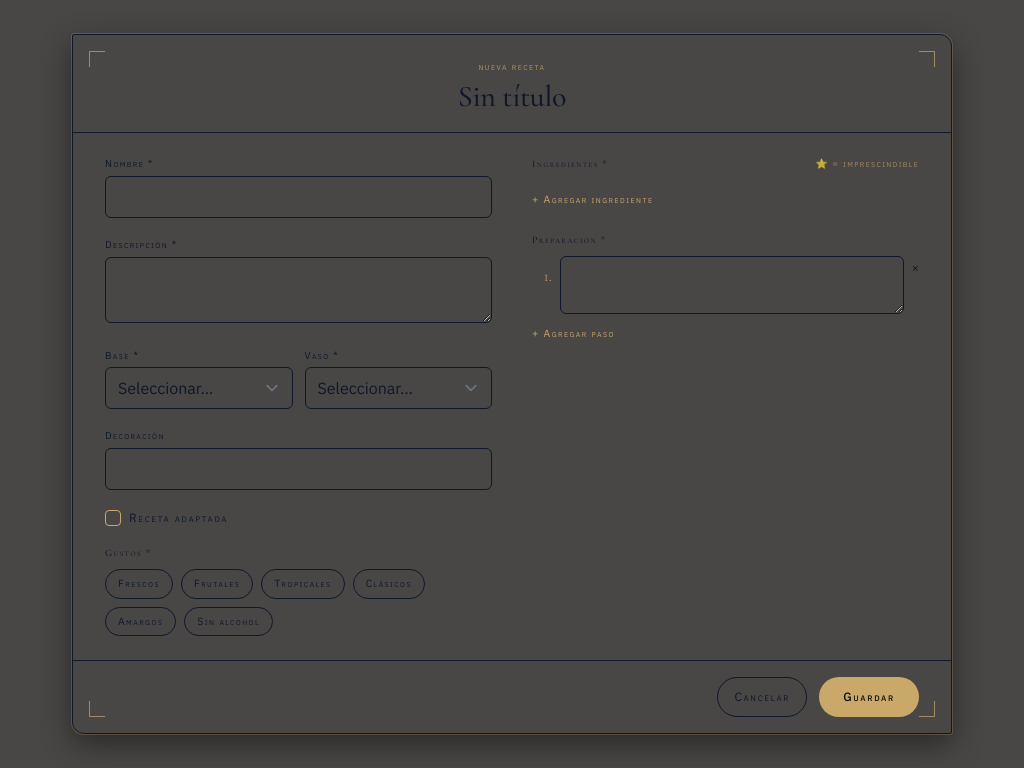
Scenario: CocktailEditor › "+ Agregar ingrediente" adds a new ingredient row
Click the button "+ Agregar ingrediente": (593,199) 532,192 -> 653,207
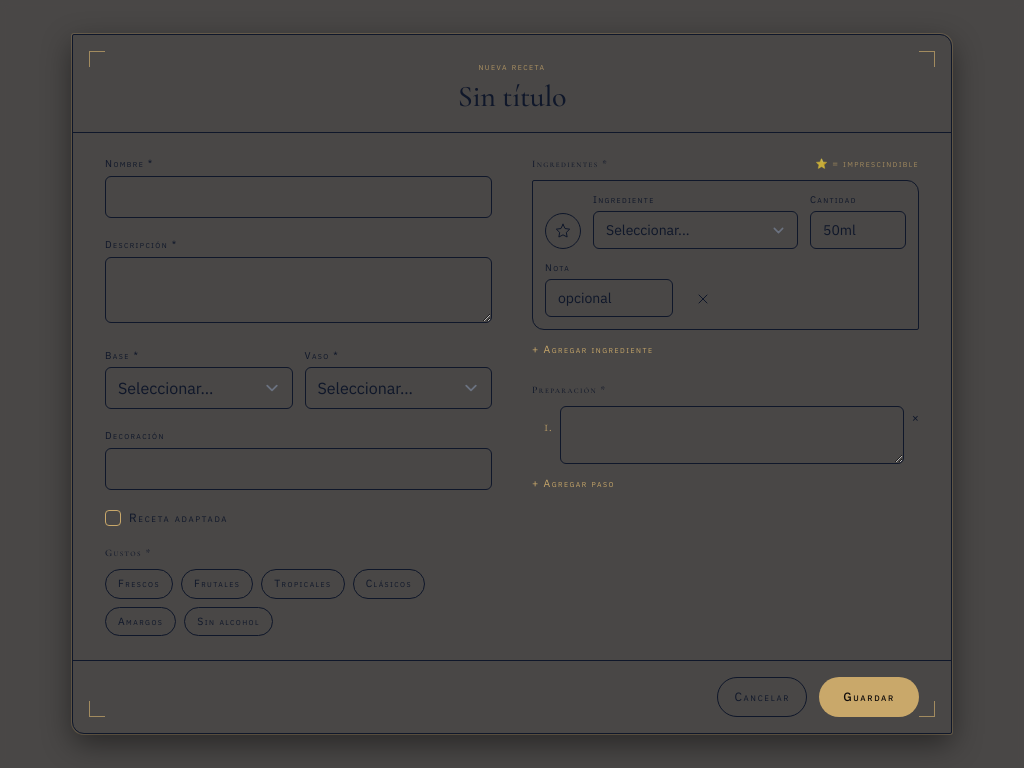
Expected: the number of buttons named "Quitar ingrediente de la receta" is 1, 685,281 -> 721,317
